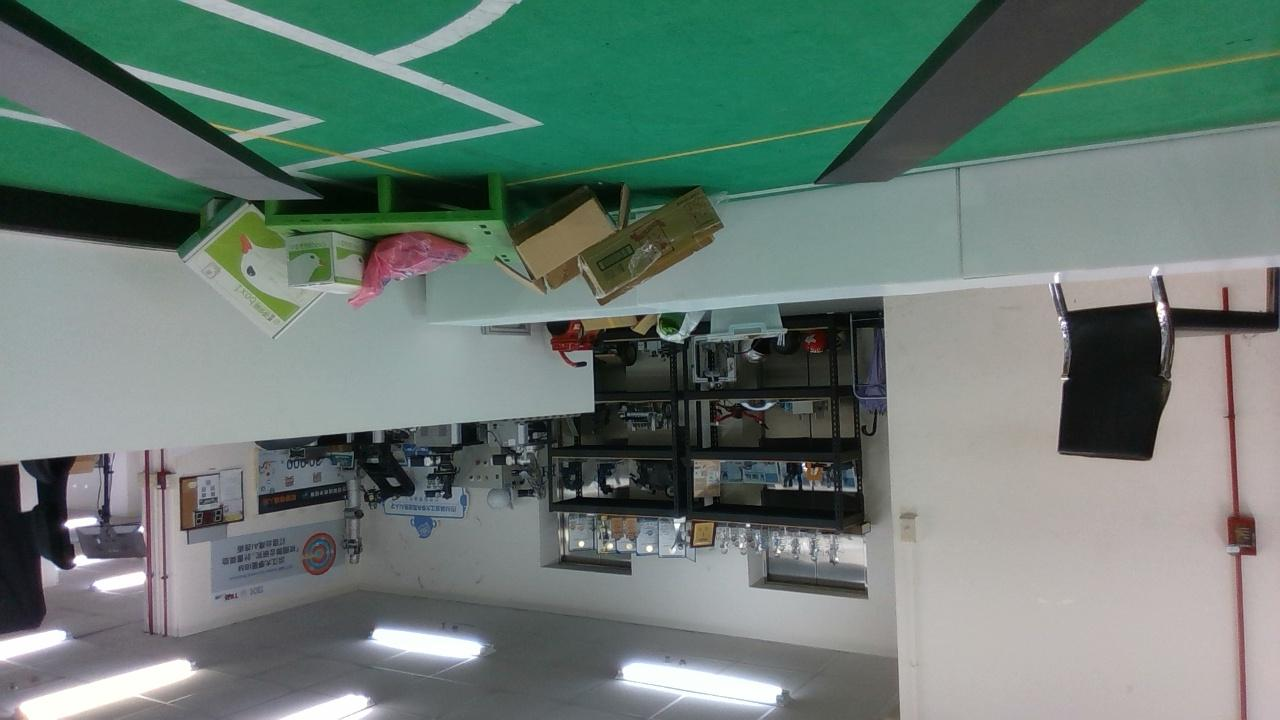Pallet: (265, 175, 505, 230)
